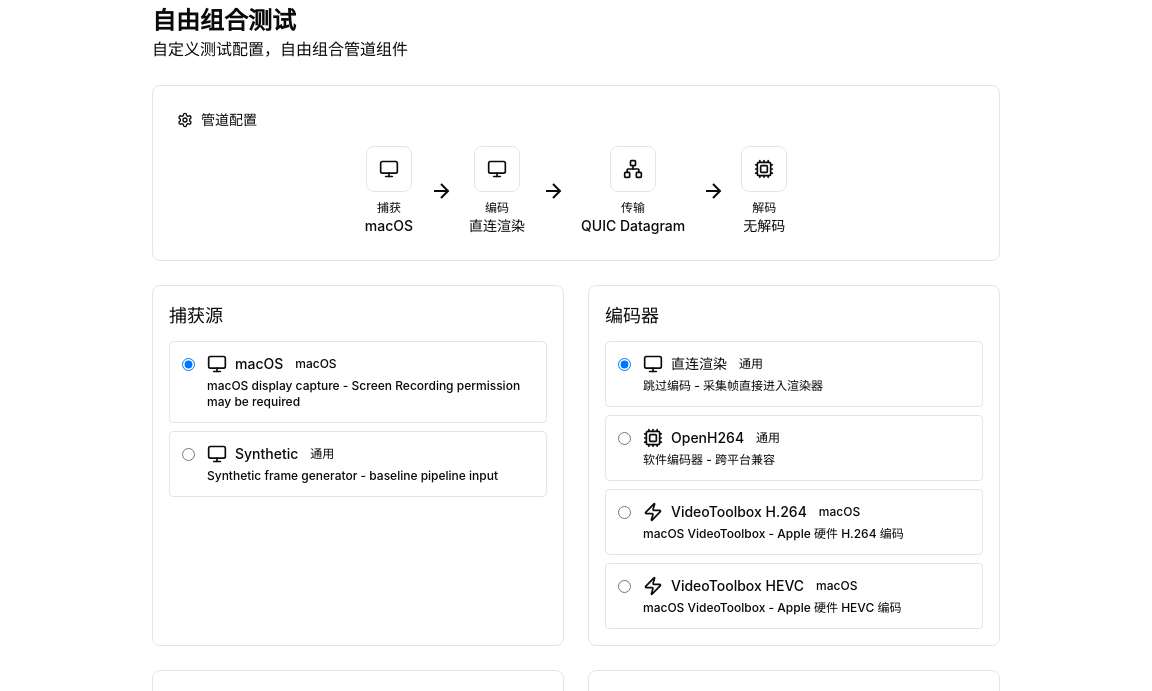
CustomTestPage platform capabilities › blocks VideoToolbox HEVC custom runs without HEVC decode capability
Check: the radio button labelled "直连渲染 通用 跳过编码 - 采集帧直接进入渲染器" is checked, box [618, 358, 631, 371]
Click the radio button labelled "VideoToolbox HEVC" at (624, 586), box [618, 580, 631, 593]
(page scrolled)
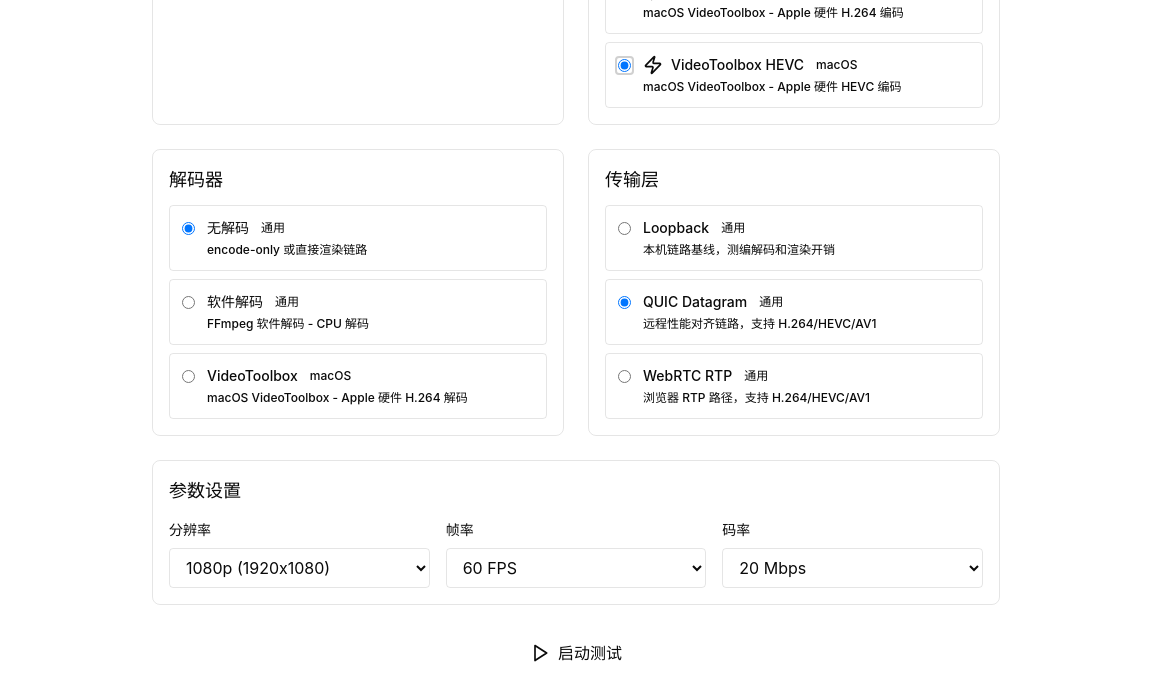
Check: the radio button labelled "VideoToolbox HEVC" is checked, box [618, 59, 631, 72]
Click the radio button labelled "VideoToolbox macOS macOS VideoToolbox - Apple 硬件 H.264 解码" at (188, 376), box [182, 370, 195, 383]
(page scrolled)
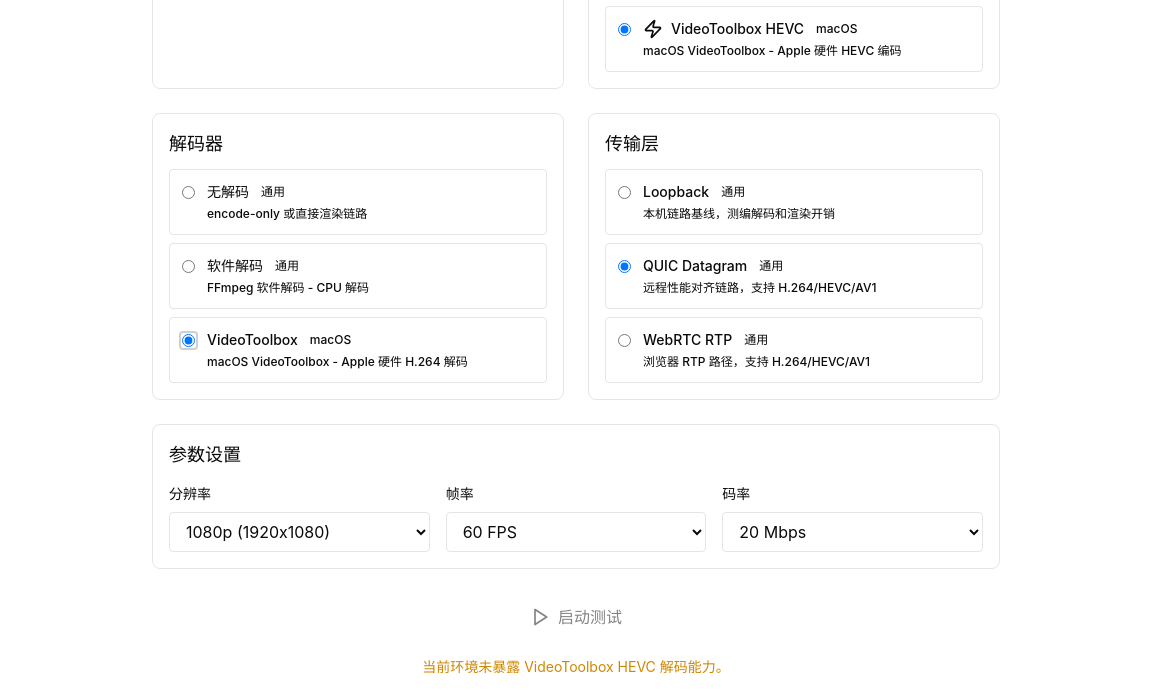
Check: the 1st radio button is checked, box [618, 23, 631, 36]
Check: the radio button labelled "VideoToolbox macOS macOS VideoToolbox - Apple 硬件 H.264 解码" is checked, box [182, 334, 195, 347]
Check: the button "启动测试" is disabled, box [506, 593, 646, 641]
